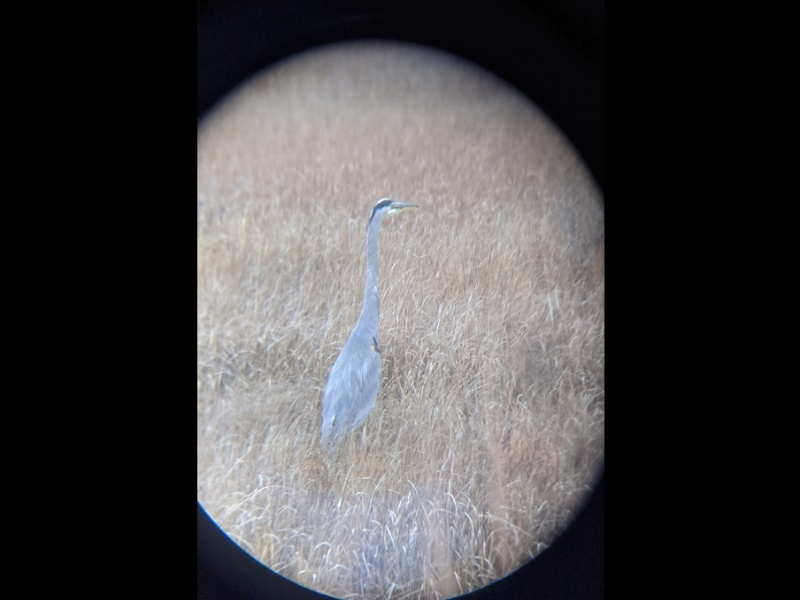heron: (311, 192, 434, 448)
